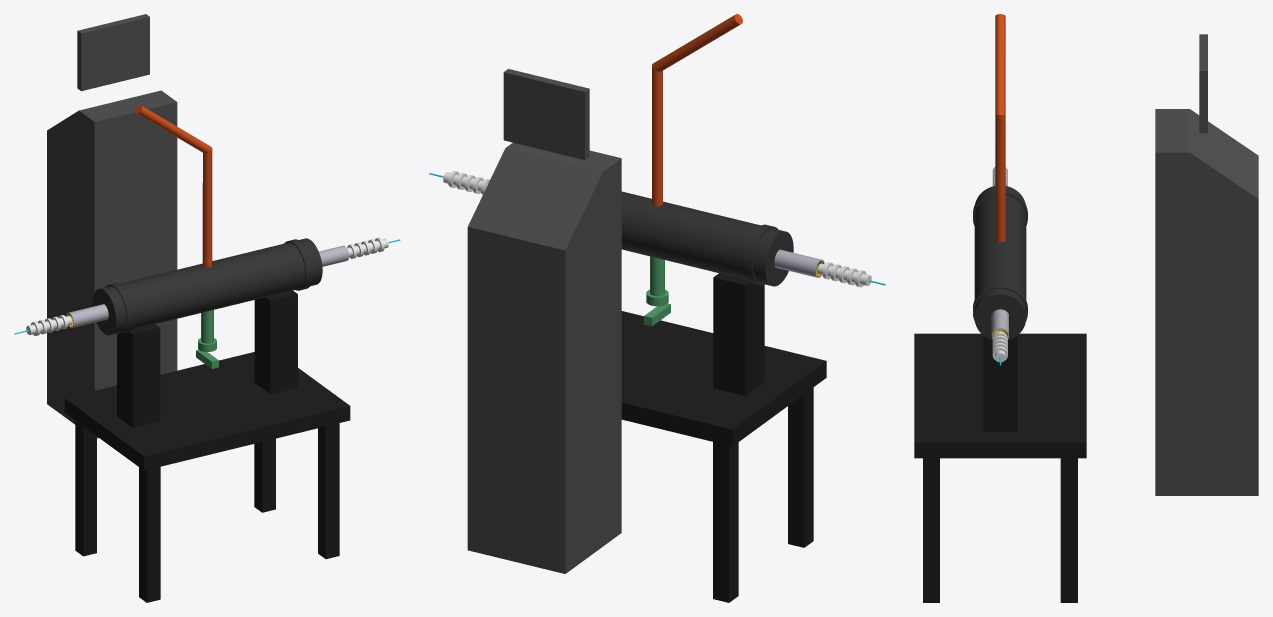
The model's file is orbitron_full_test_stand.gltf.
The picture shows the model from 3 angles, left to right: view 1: azimuth 30°, elevation 25°; view 2: azimuth 150°, elevation 25°; view 3: azimuth 270°, elevation 25°; orthographic projection. The views are drawn at different scales.
Parts seen in each view (by area): view 1: Optical_Table, Operator_Console, YBCO_Magnet, HV_Umbilical, Ceramic_Feedthroughs, Anode_Shell, Neutral_Beam_Injector; view 2: Operator_Console, Optical_Table, YBCO_Magnet, HV_Umbilical, Ceramic_Feedthroughs, Neutral_Beam_Injector, Anode_Shell; view 3: Operator_Console, Optical_Table, YBCO_Magnet, HV_Umbilical, Ceramic_Feedthroughs.
Part boxes in pixels (x1,y1,x2,y2): Optical_Table: (64,290,350,602); Operator_Console: (47,14,177,438); YBCO_Magnet: (92,238,322,335); HV_Umbilical: (135,105,212,267); Ceramic_Feedthroughs: (26,237,388,335); Anode_Shell: (66,245,348,328); Neutral_Beam_Injector: (196,310,218,368); Operator_Console: (467,69,621,573); Optical_Table: (621,273,826,602); YBCO_Magnet: (621,191,793,286); HV_Umbilical: (652,14,742,206); Ceramic_Feedthroughs: (443,171,871,287); Neutral_Beam_Injector: (644,256,670,326); Anode_Shell: (774,249,824,277); Operator_Console: (1155,34,1258,495); Optical_Table: (914,333,1086,602); YBCO_Magnet: (973,186,1027,339); HV_Umbilical: (995,14,1005,241); Ceramic_Feedthroughs: (992,167,1007,362).
Bounding box in the file's own units: 2.8 × 3.22 × 2.
